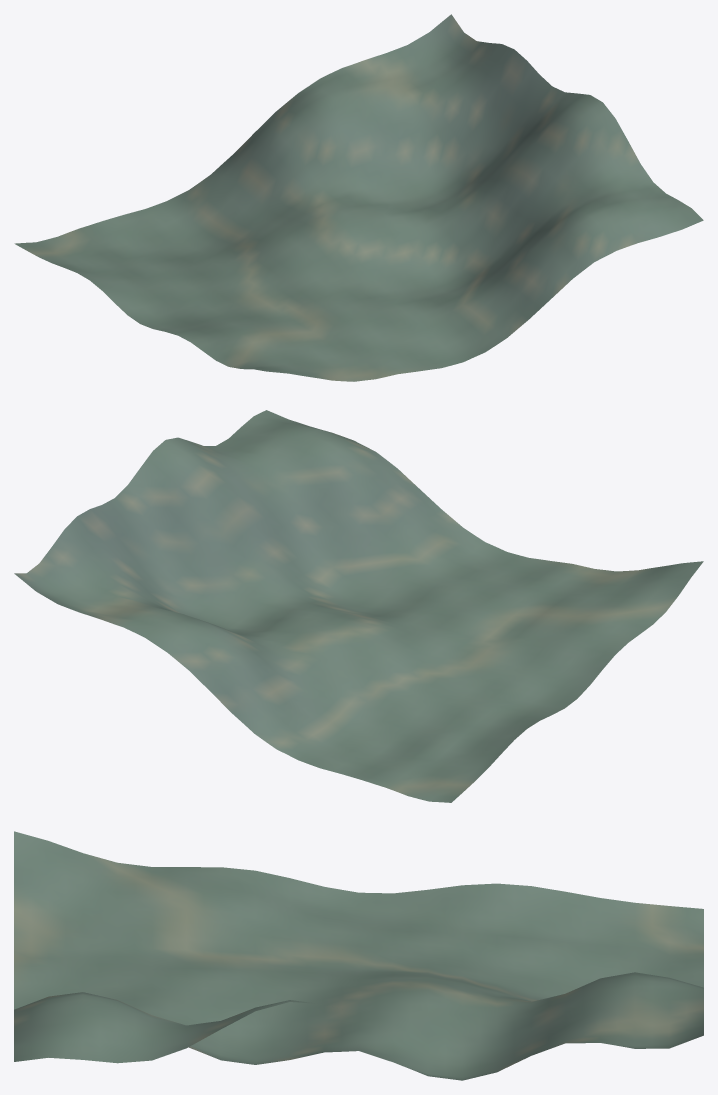
Rendered from ridge_0_-4.glb.
3 views of the same model, one above another, from view 1: azimuth 30°, elevation 25°; view 2: azimuth 150°, elevation 25°; view 3: azimuth 270°, elevation 25° (orthographic). The views are drawn at different scales.
Bounding box in the file's own units: 220 × 71.87 × 220.
